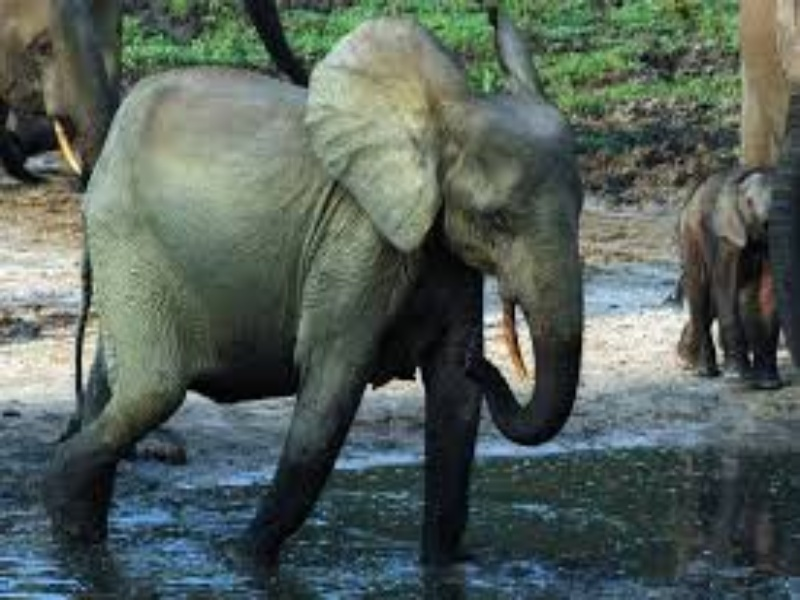elephant: (58, 25, 596, 600), (660, 145, 788, 398)
